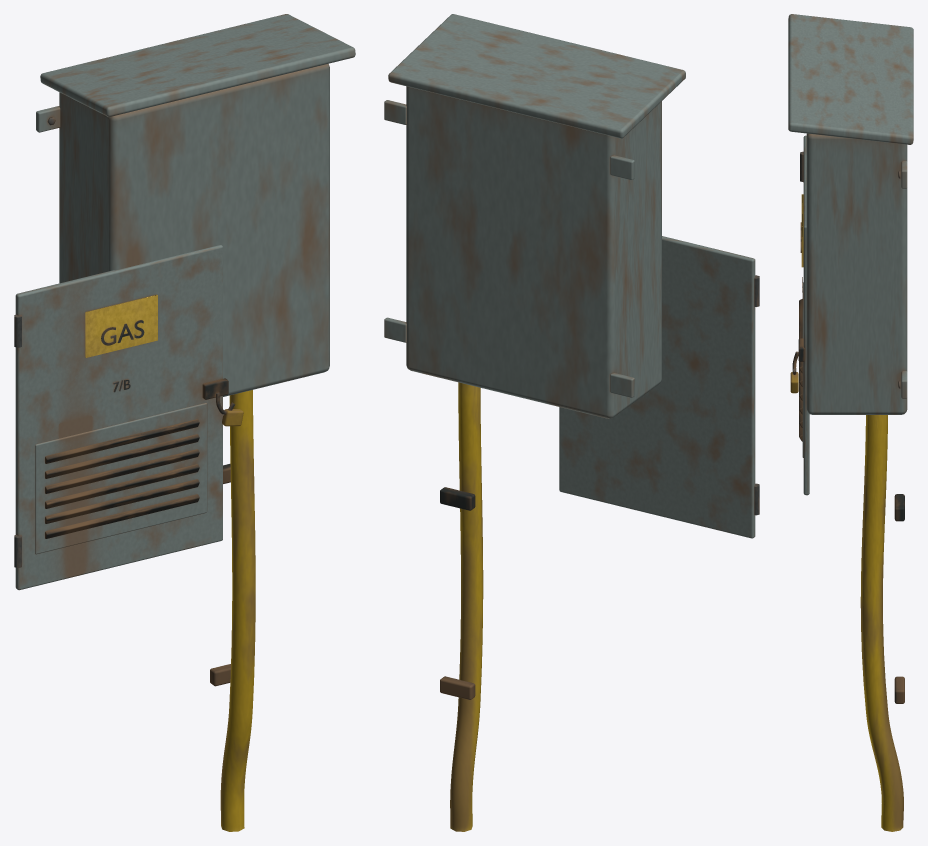
File: wiktor_skrzynka.glb
3 views of the same model, side by side, from view 1: azimuth 30°, elevation 25°; view 2: azimuth 150°, elevation 25°; view 3: azimuth 270°, elevation 25° (orthographic). The views are drawn at different scales.
Visible parts, largest first — view 1: Skrzynka, Drzwi; view 2: Skrzynka, Drzwi; view 3: Skrzynka, Drzwi.
Part boxes in pixels (x1,y1,x2,y2): Skrzynka: (36,14,355,831); Drzwi: (14,245,243,590); Skrzynka: (384,14,685,831); Drzwi: (559,236,759,538); Skrzynka: (788,14,913,831); Drzwi: (790,135,809,495).
Bounding box in the file's own units: 0.713 × 1.61 × 0.2491.
Materials: 2 (2 with a texture image).
